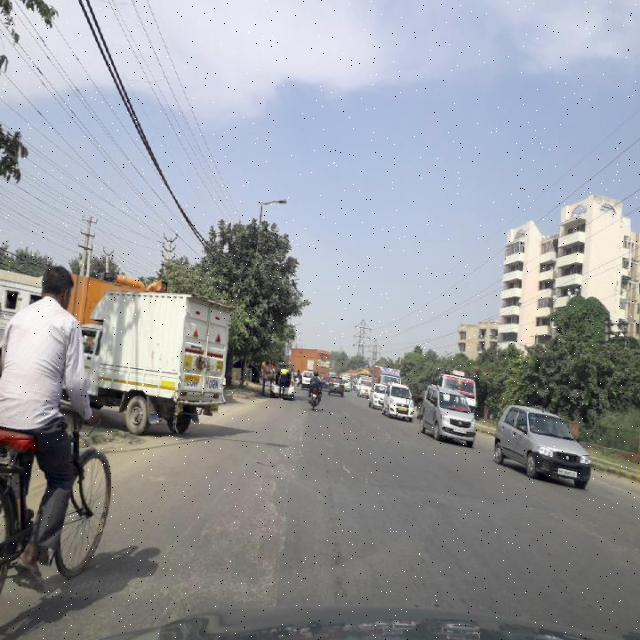D40: (172, 482, 292, 594), (245, 415, 312, 484)
